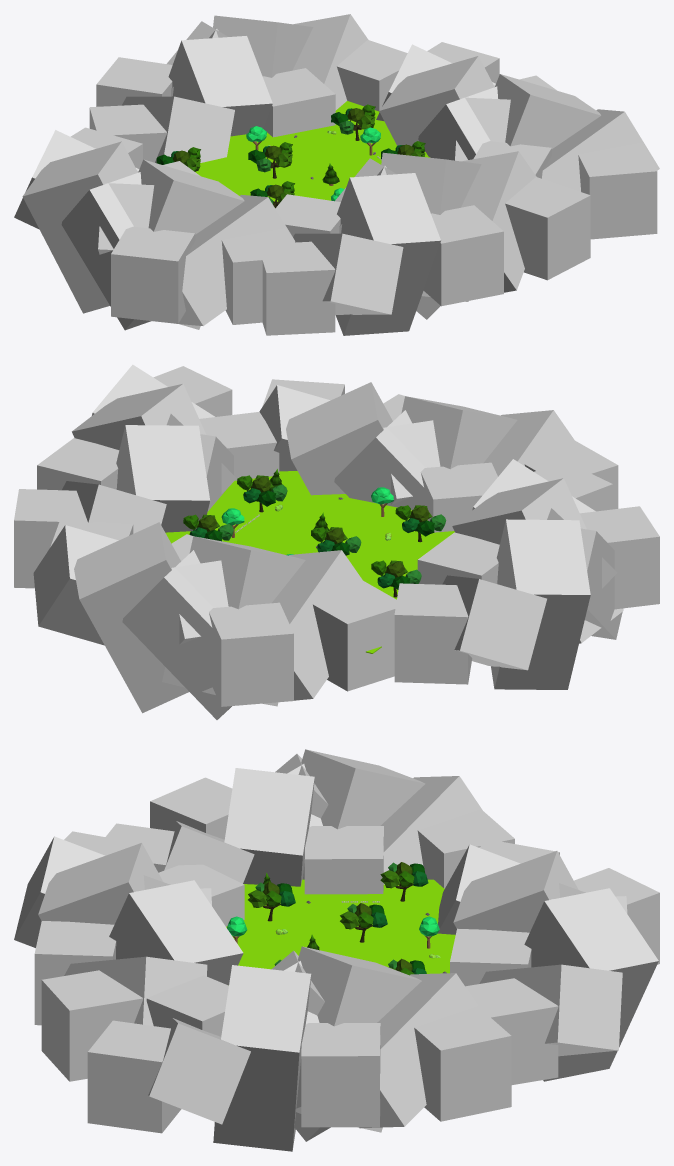
The model's file is map.glb.
3 views of the same model, one above another, from view 1: azimuth 30°, elevation 25°; view 2: azimuth 150°, elevation 25°; view 3: azimuth 270°, elevation 25° (orthographic). The views are drawn at different scales.
Visible parts, largest first — view 1: Cube.002, map; view 2: Cube.002, map; view 3: Cube.002, map.
Boxes of the visible parts, x1,y1,x2,y2 form: Cube.002: (14, 14, 659, 335); map: (195, 101, 429, 201); Cube.002: (14, 364, 659, 719); map: (165, 471, 454, 653); Cube.002: (14, 749, 659, 1151); map: (226, 879, 455, 973).
Size of the model in its own units: 753 by 204 by 684.
Materials: 74 (12 with a texture image).
